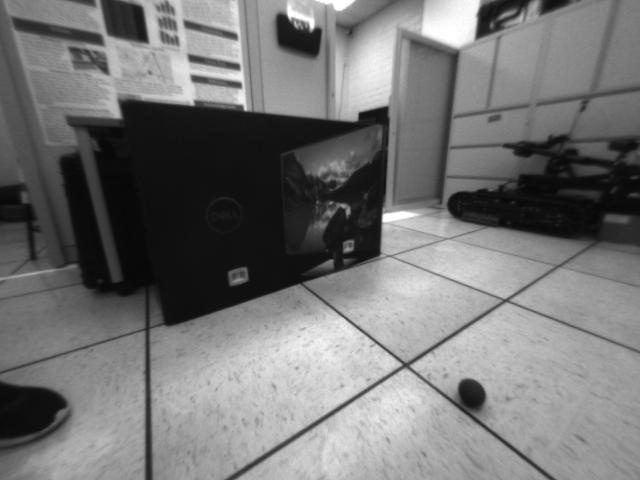dogtoy: (454, 369, 492, 415)
